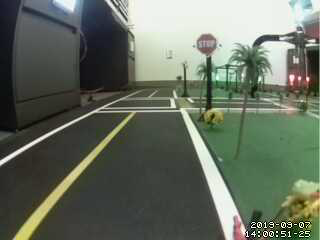Stop_Sign: (195, 29, 224, 58)
